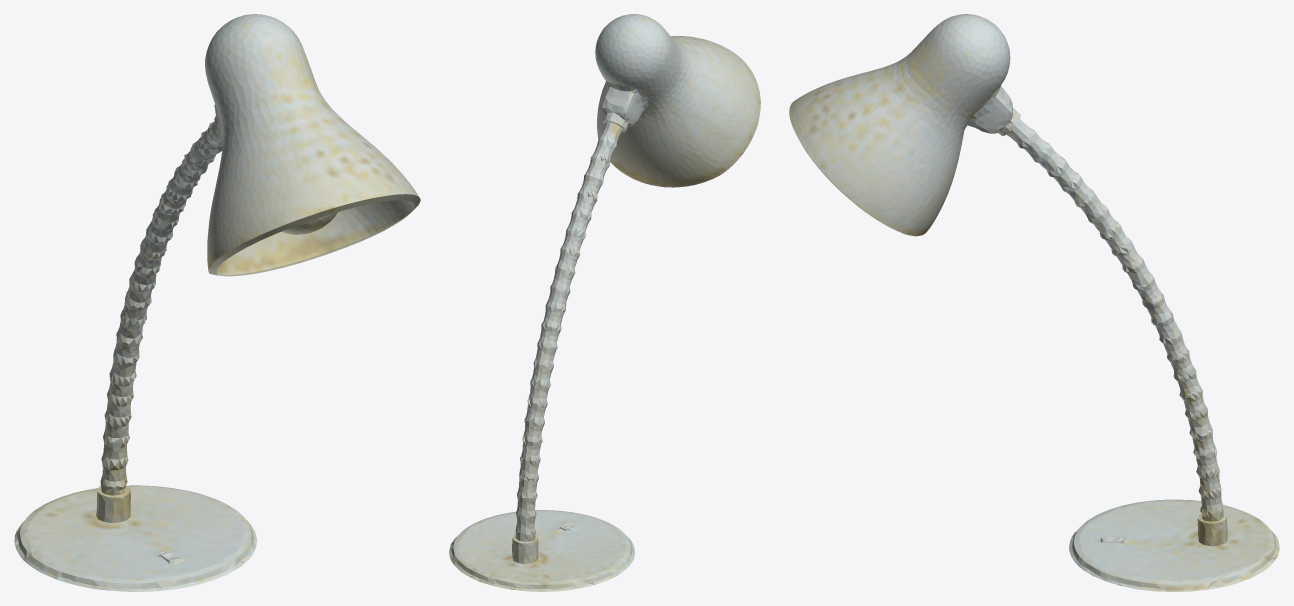
Rendered from lamp3_final300.obj.
The picture shows the model from 3 angles, left to right: view 1: azimuth 30°, elevation 25°; view 2: azimuth 150°, elevation 25°; view 3: azimuth 270°, elevation 25°; orthographic projection. The views are drawn at different scales.
Size of the model in its own units: 0.5555 by 1.54 by 1.29.
